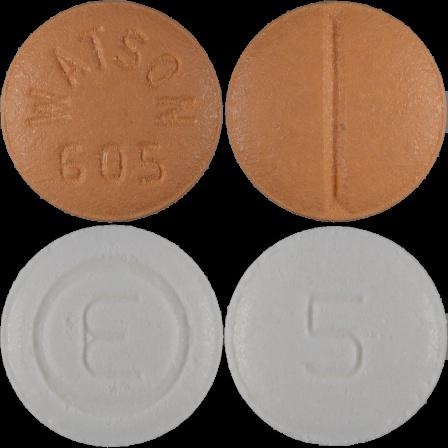60760-291: (0, 0, 224, 224)
